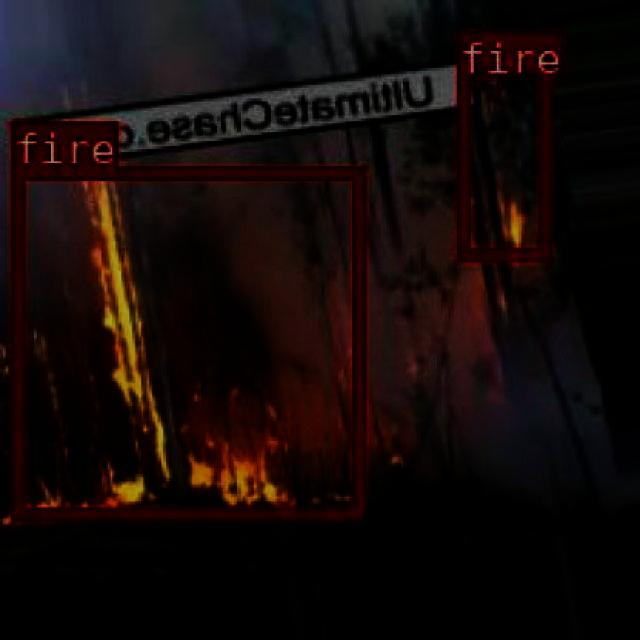fire: (11, 166, 363, 519), (456, 28, 547, 260)
